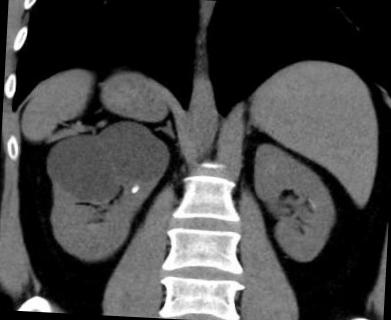Tas_Var: (128, 182, 142, 199)
